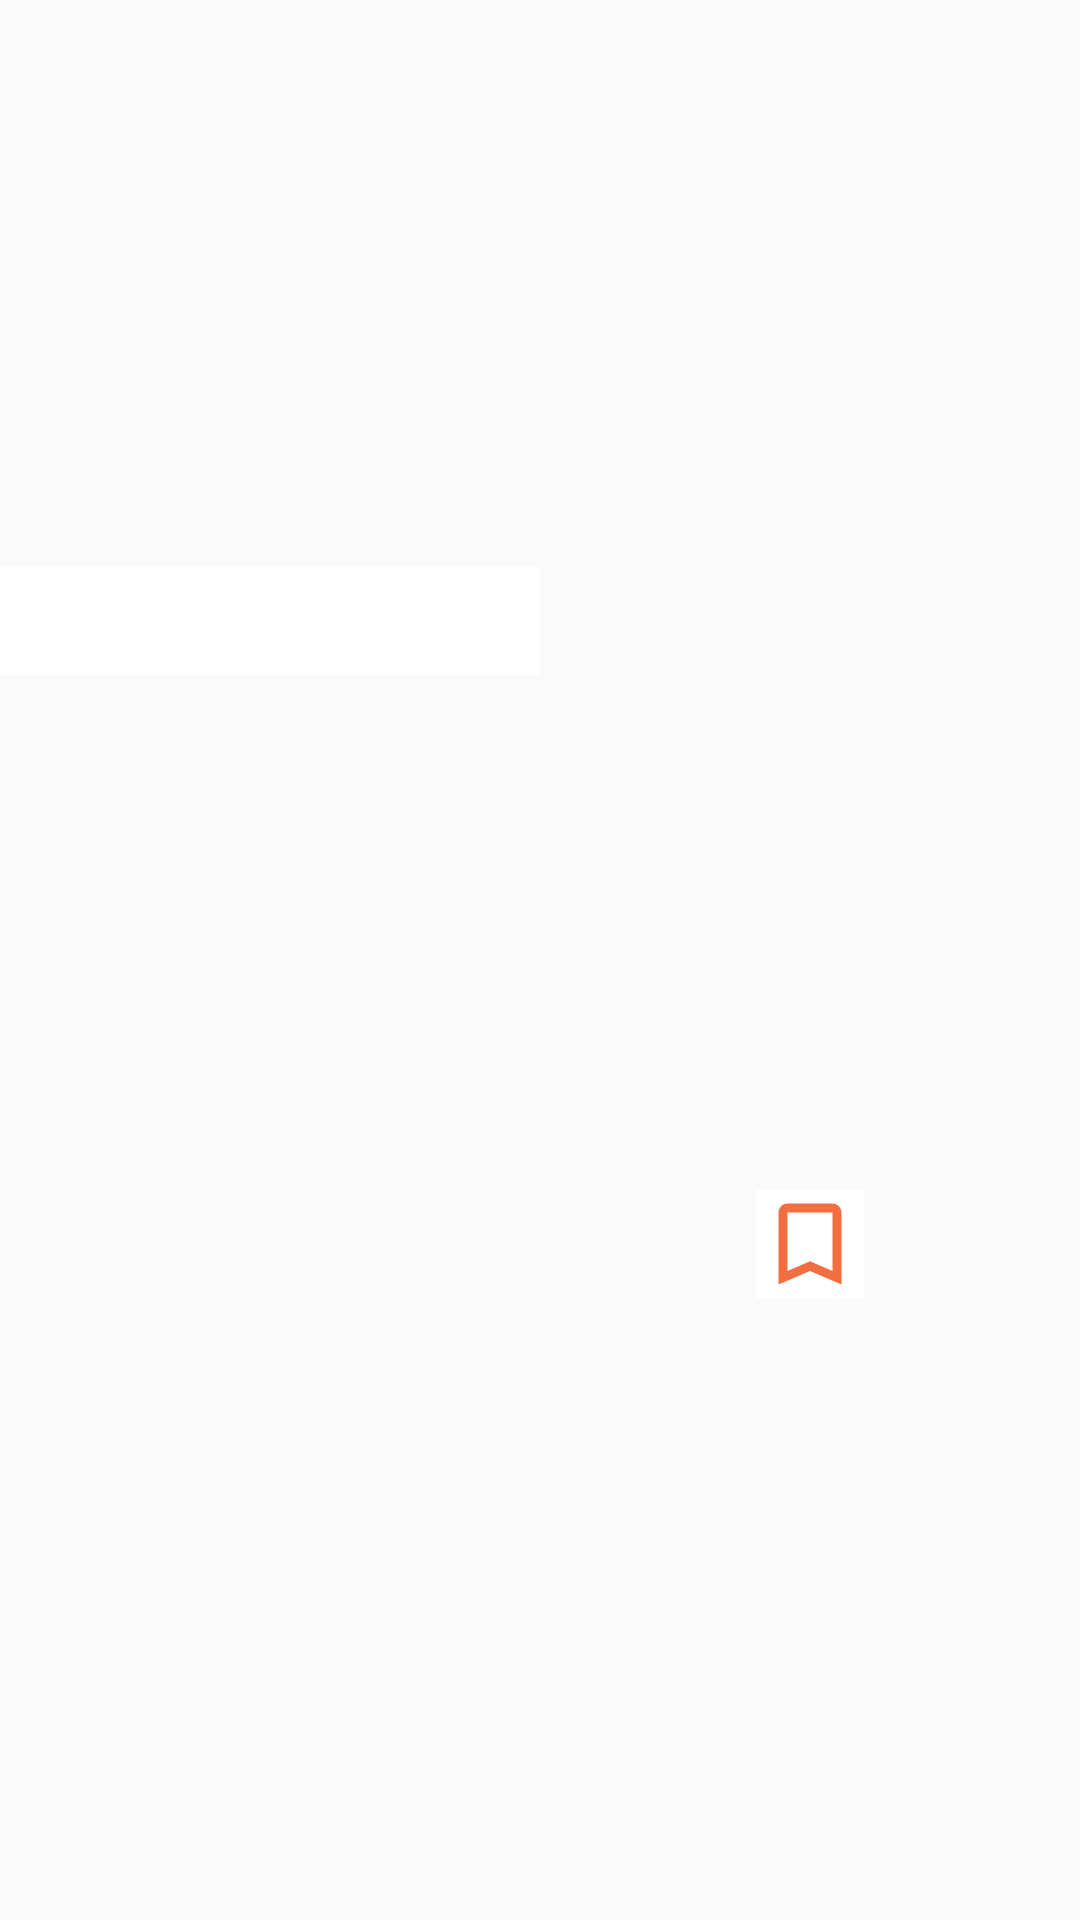

Icons on this 1080x1920 Android screen, each with the point to tap as [x,y]:
bookmark: [810,1244]
